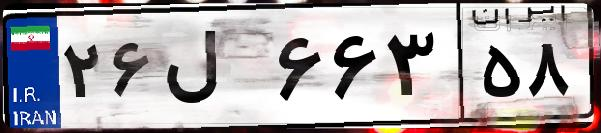2: (57, 26, 110, 100)
3: (385, 28, 445, 110)
5: (475, 38, 525, 113)
6: (270, 28, 330, 110), (330, 28, 385, 110), (110, 28, 158, 98)
8: (525, 38, 570, 115)
ل: (158, 20, 270, 120)
